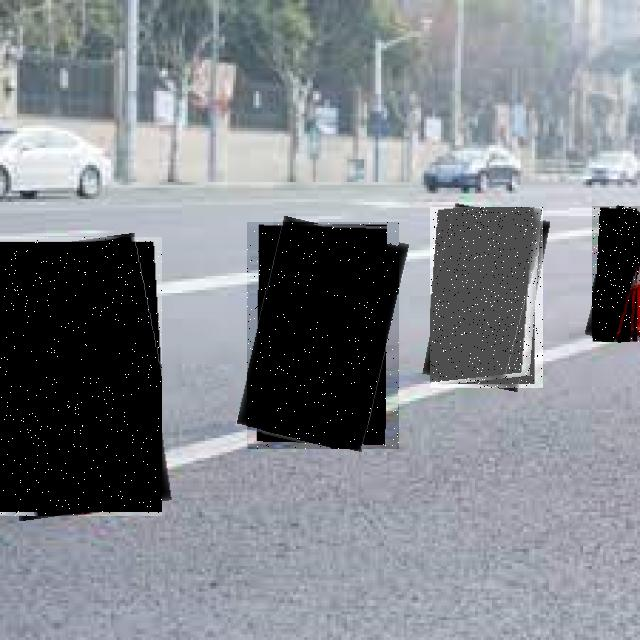Traffic-cone: (0, 237, 162, 516), (247, 222, 399, 449), (430, 207, 543, 388), (592, 206, 640, 342)
